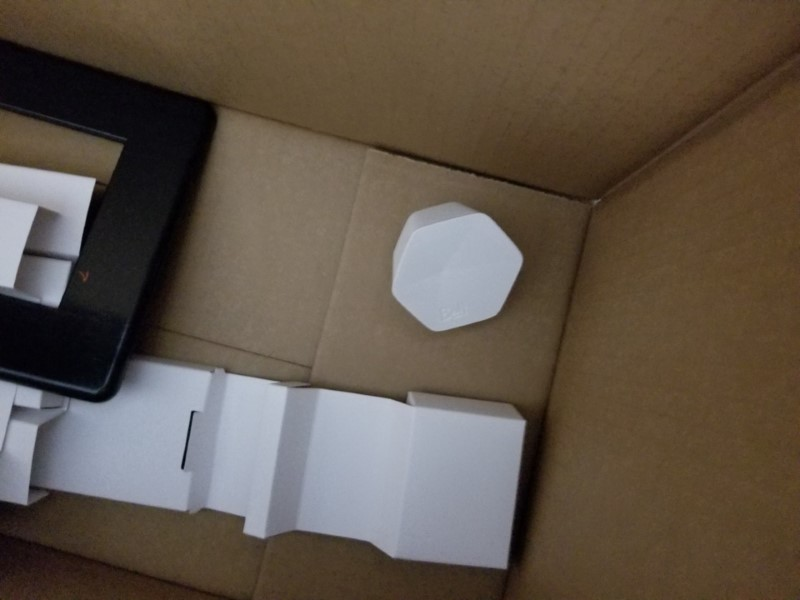pod: (384, 196, 528, 340)
